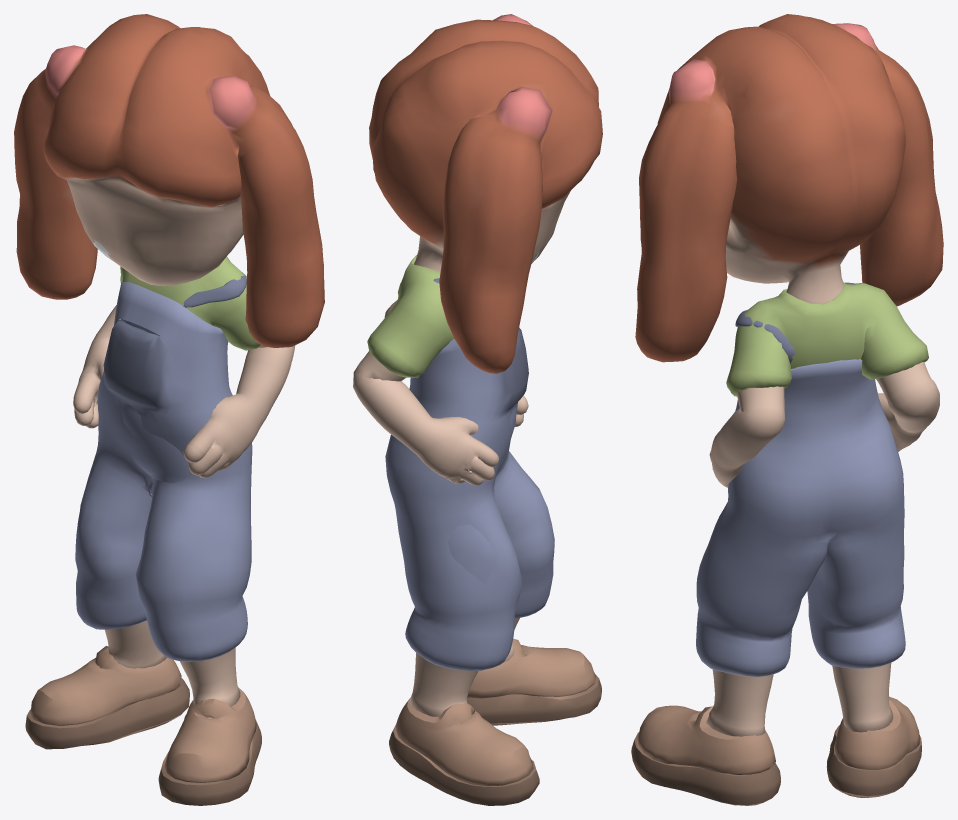
The picture shows the model from 3 angles, left to right: view 1: azimuth 30°, elevation 25°; view 2: azimuth 150°, elevation 25°; view 3: azimuth 270°, elevation 25°; orthographic projection. The views are drawn at different scales.
Parts seen in each view (by area): view 1: Arms.097; view 2: Arms.097; view 3: Arms.097.
Boxes of the visible parts, x1,y1,x2,y2 form: Arms.097: [14, 14, 324, 805]; Arms.097: [353, 14, 602, 805]; Arms.097: [631, 14, 943, 805].
Size of the model in its own units: 51.96 by 162 by 60.87.
